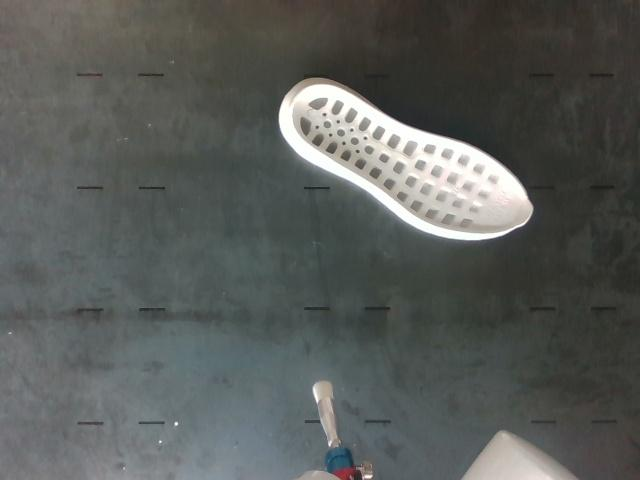shoes: (292, 84, 532, 234)
